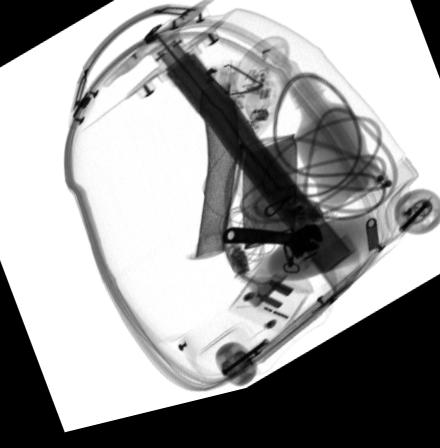Wrench: (220, 239, 321, 276)
